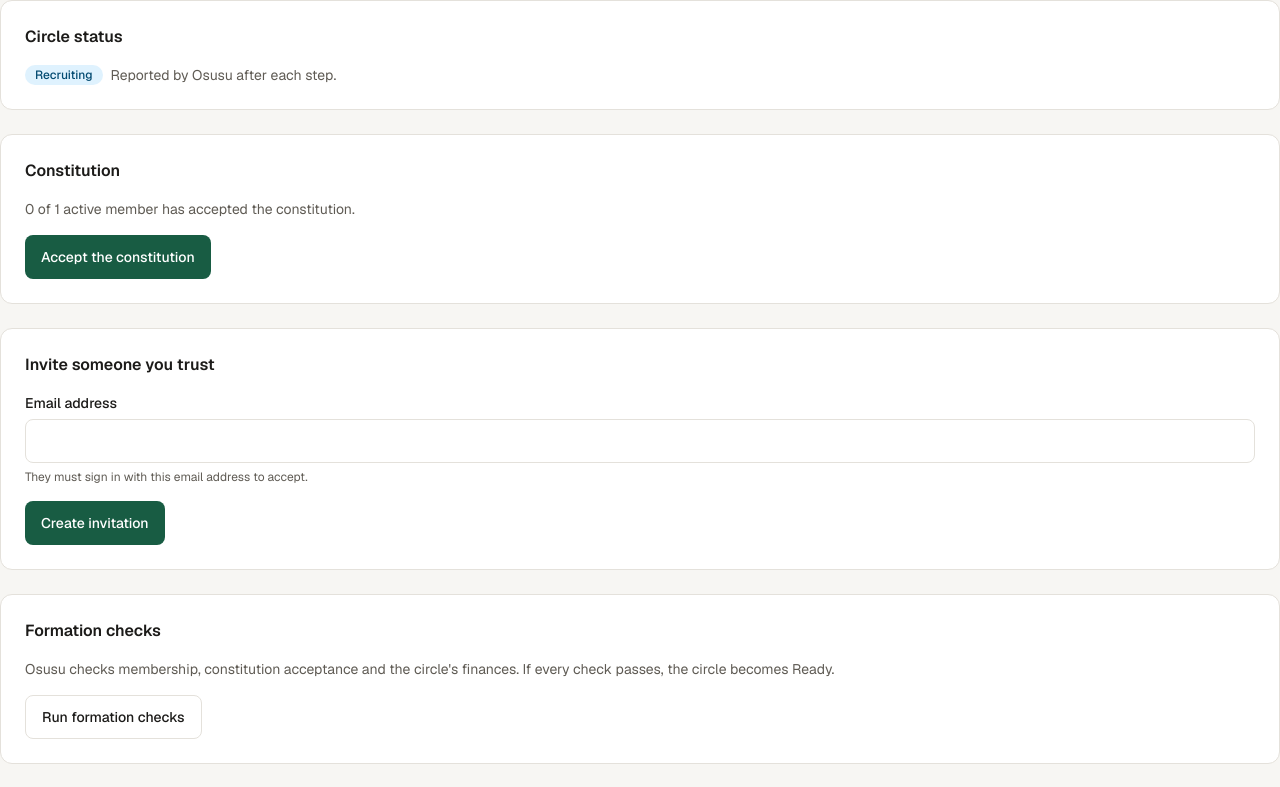
Scenario: circle set-up workflow › a passing evaluation reloads the circle
The width and height of the screenshot is (1280, 787).
Click the button "Run formation checks". click: (113, 717)
box: top-left (25, 695), bottom-right (202, 739)
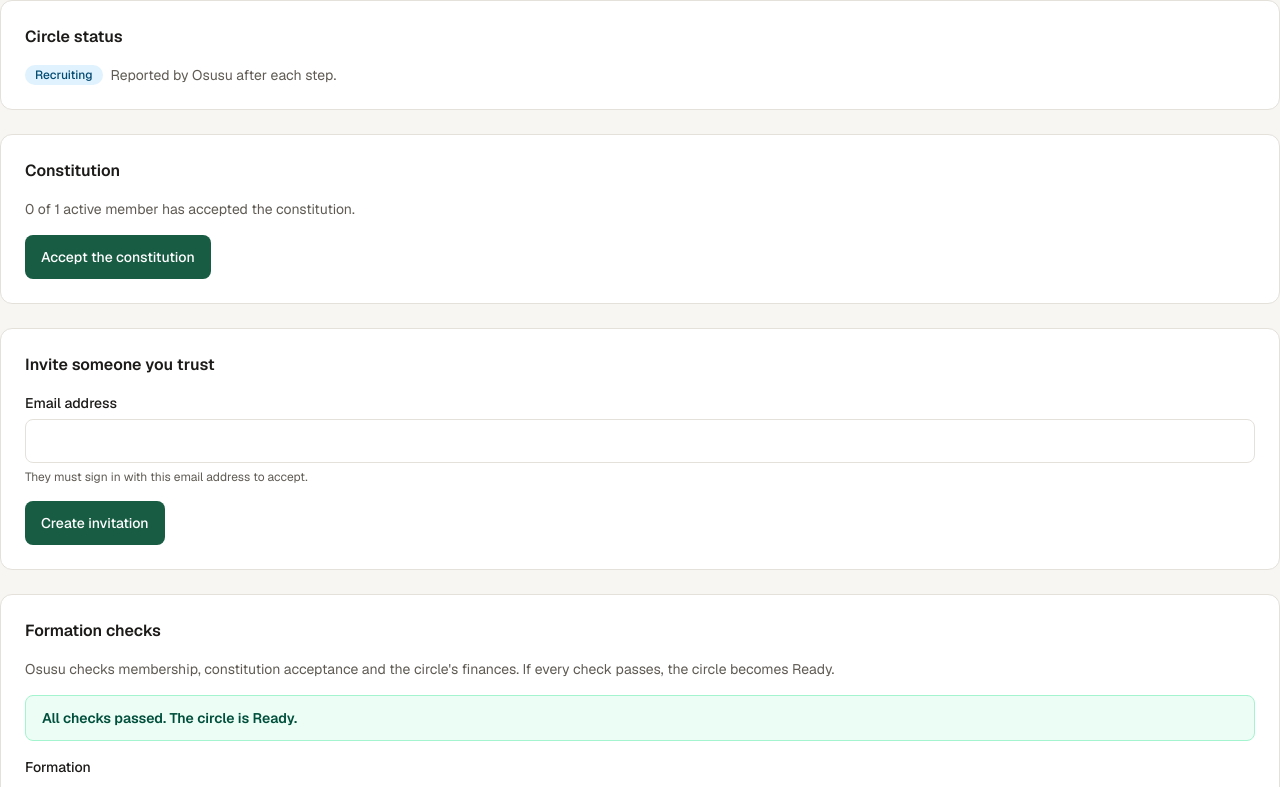
Now the text "All checks passed. The circle is Ready." is shown, box top-left (42, 709), bottom-right (297, 727)
